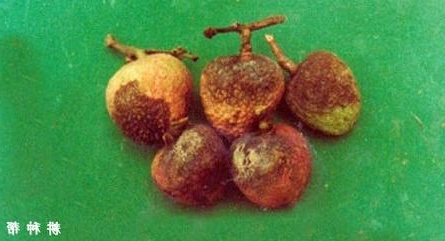Frost_Blight: (142, 39, 345, 183)
